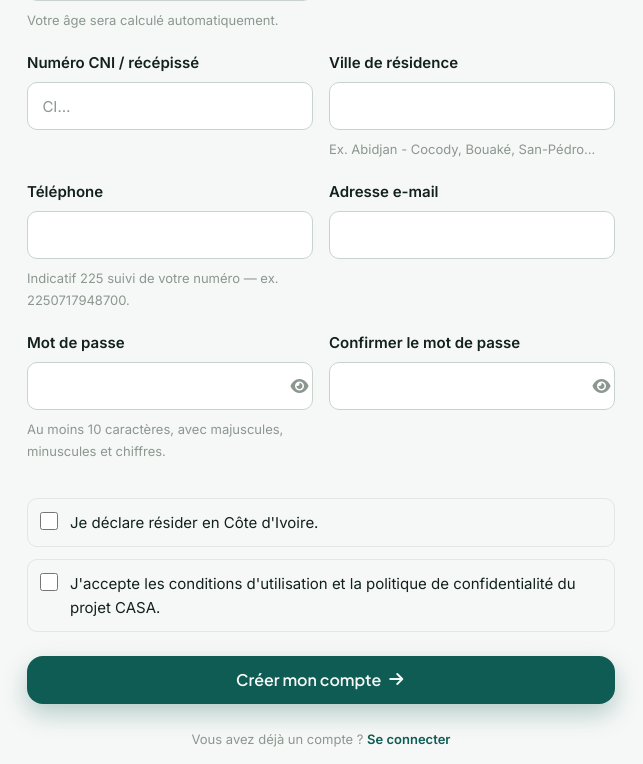
InscriptionPage › les deux boutons œil (mot de passe + confirmation) basculent indépendamment
This screenshot has width=643, height=764.
(page scrolled)
Type "MotDePasse2026" into the password field labelled "Mot de passe" at (170, 386), box [27,362,313,410]
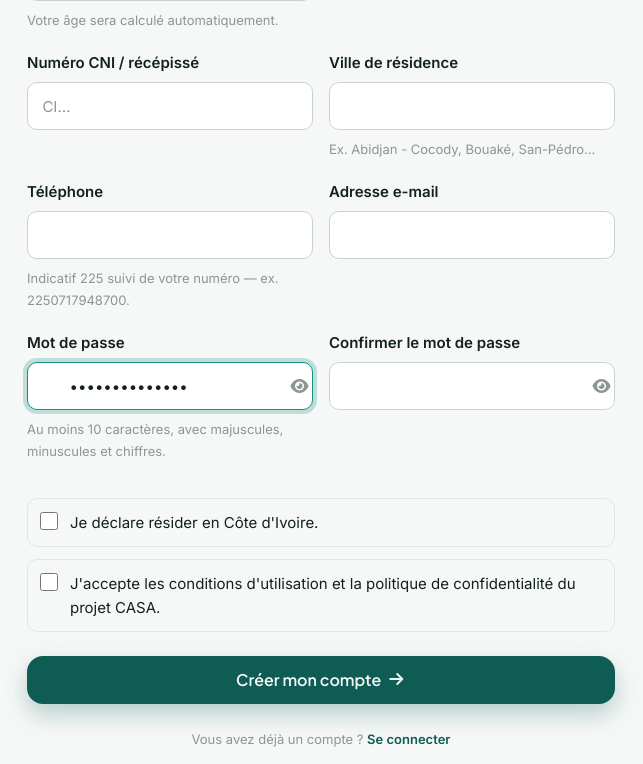
Type "MotDePasse2026" into the password field labelled "Confirmer le mot de passe" at (472, 386), box [329,362,615,410]
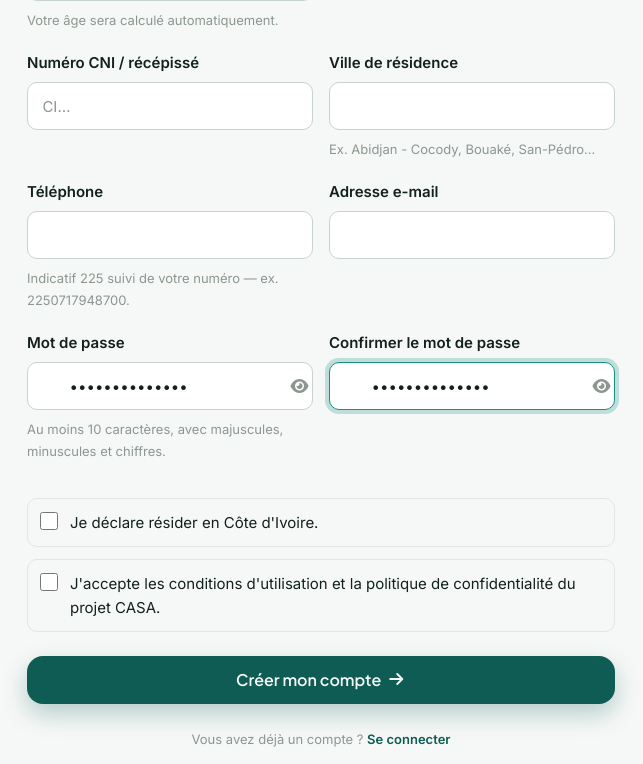
Click the 1st button named "Afficher le mot de passe" at (291, 386), box [276,372,305,401]
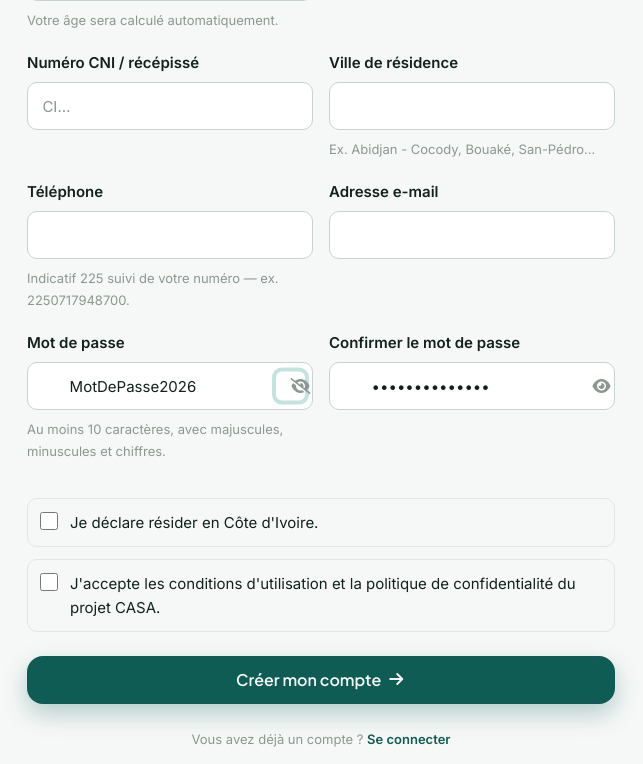
Expected: the field labelled "Mot de passe" shows its text, [27,362,313,410]
